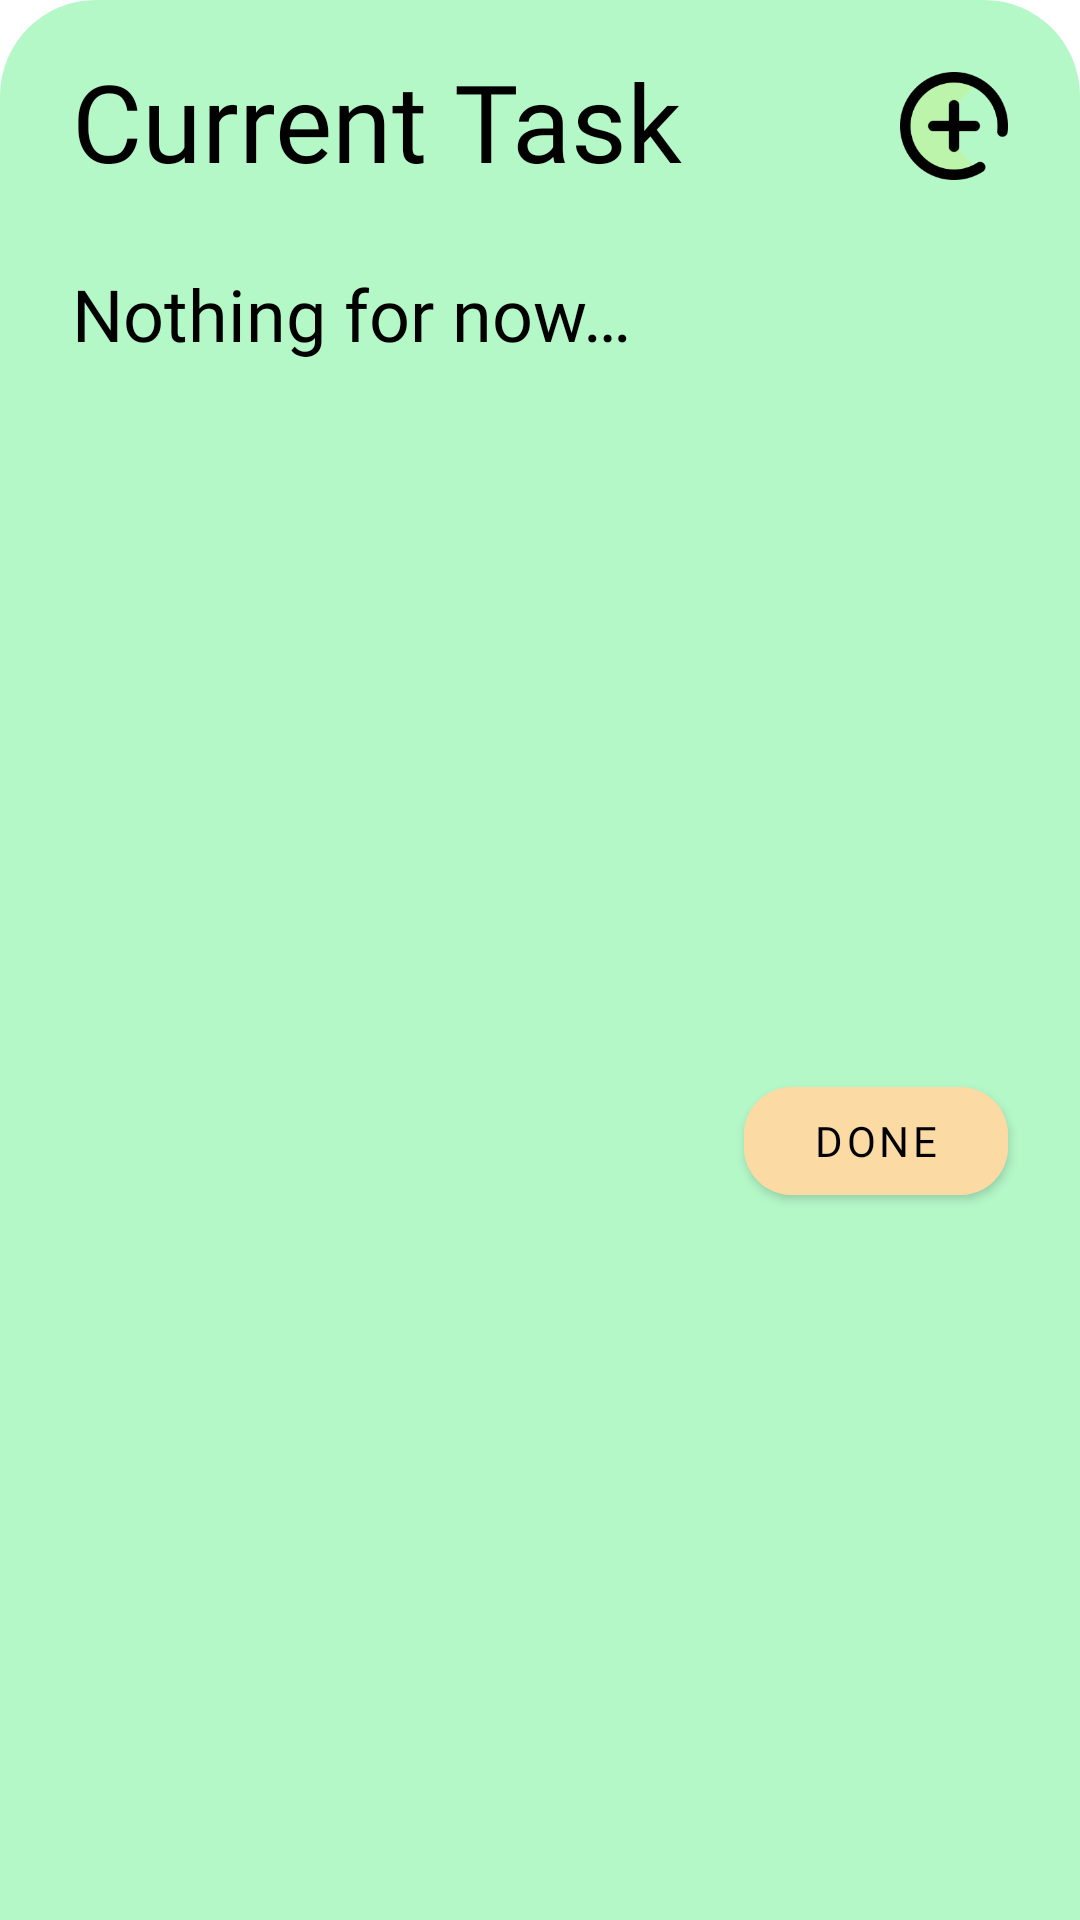

Icons on this 1080px×1920px Android screen, each with its box as [x1,y1,x2,y2]:
add: [900,72,1008,180]
